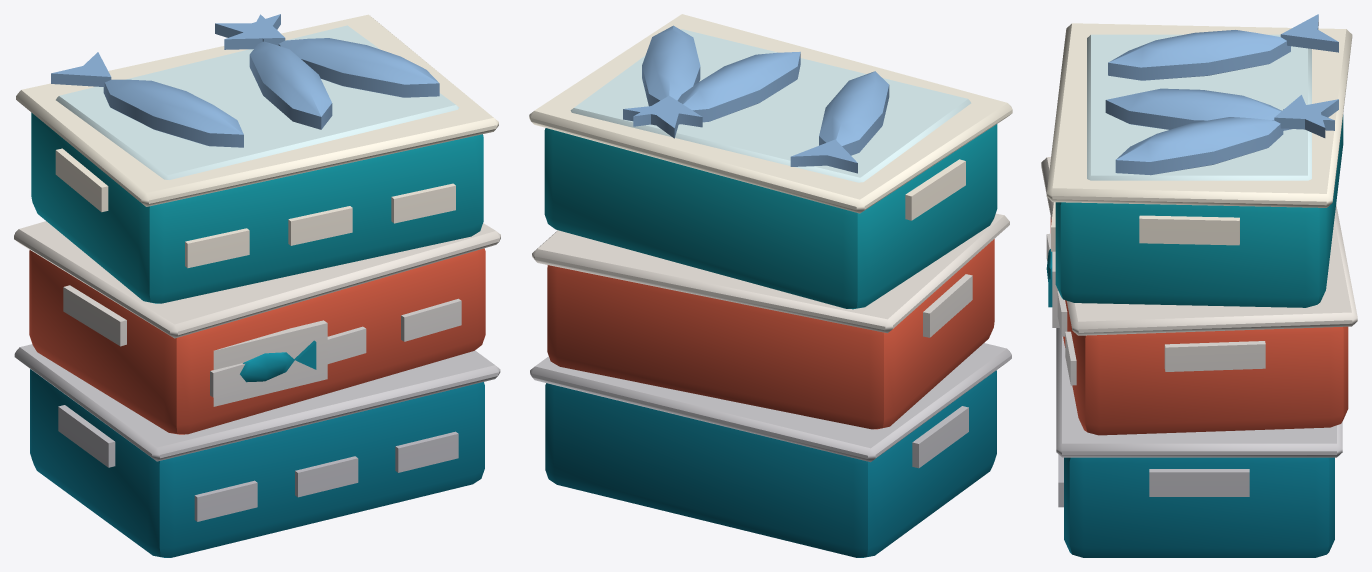
The model's file is hz_crates.glb.
The picture shows the model from 3 angles, left to right: view 1: azimuth 30°, elevation 25°; view 2: azimuth 150°, elevation 25°; view 3: azimuth 270°, elevation 25°; orthographic projection.
Parts seen in each view (by area): view 1: hz_crates; view 2: hz_crates; view 3: hz_crates.
Boxes of the visible parts, x1,y1,x2,y2 form: hz_crates: (14,14,500,557); hz_crates: (529,14,1012,557); hz_crates: (1041,14,1357,557).
Size of the model in its own units: 1.09 by 1.16 by 0.8184.
